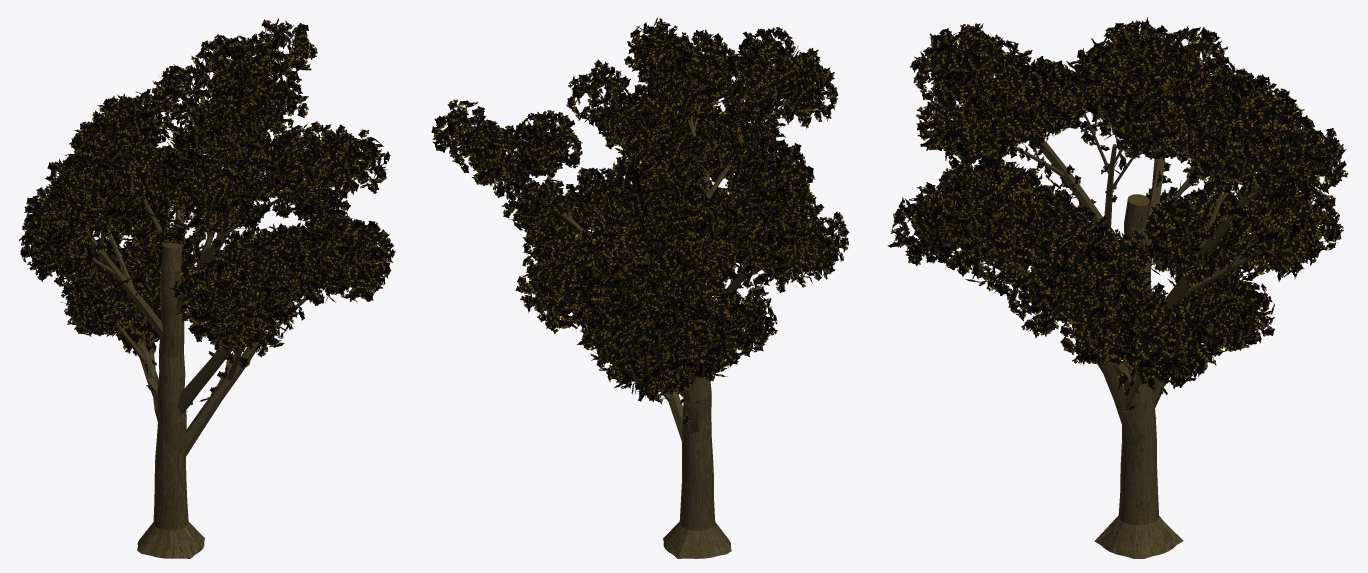
Rendered from broadleaf_giant_v03.fbx.
3 renders of one model, left to right at view 1: azimuth 30°, elevation 25°; view 2: azimuth 150°, elevation 25°; view 3: azimuth 270°, elevation 25°, orthographic. The views are drawn at different scales.
Visible parts, largest first — view 1: broadleaf_giant_v03; view 2: broadleaf_giant_v03; view 3: broadleaf_giant_v03.
Part boxes in pixels (x1,y1,x2,y2): broadleaf_giant_v03: (19, 18, 395, 558); broadleaf_giant_v03: (431, 17, 849, 558); broadleaf_giant_v03: (887, 17, 1348, 558).
Size of the model in its own units: 3472 by 3501 by 4294.
Materials: 2 (2 with a texture image).
